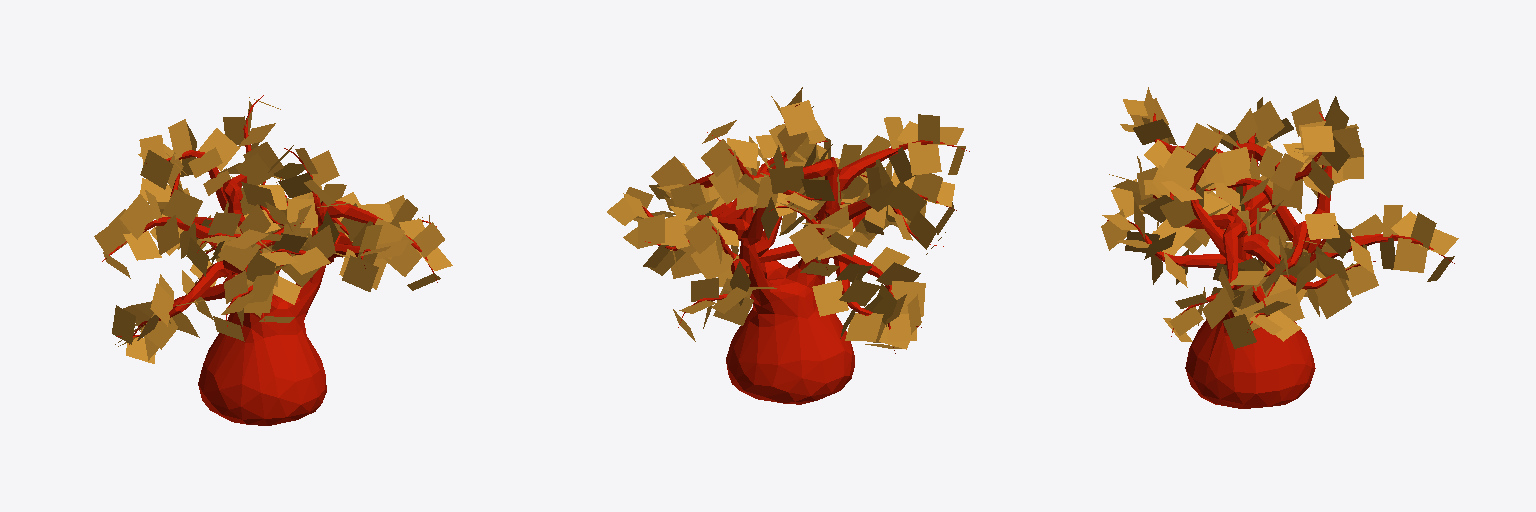
The model's file is DesertPlant.obj.
The picture shows the model from 3 angles: view 1: azimuth 30°, elevation 25°; view 2: azimuth 150°, elevation 25°; view 3: azimuth 270°, elevation 25°; orthographic projection.
Parts seen in each view (by area): view 1: DesertPlant; view 2: DesertPlant; view 3: DesertPlant.
Part boxes in pixels (x1,y1,x2,y2): DesertPlant: (94,95,452,425); DesertPlant: (607,87,969,404); DesertPlant: (1101,87,1458,408).
Bounding box in the file's own units: 5.6 × 4.47 × 5.21.